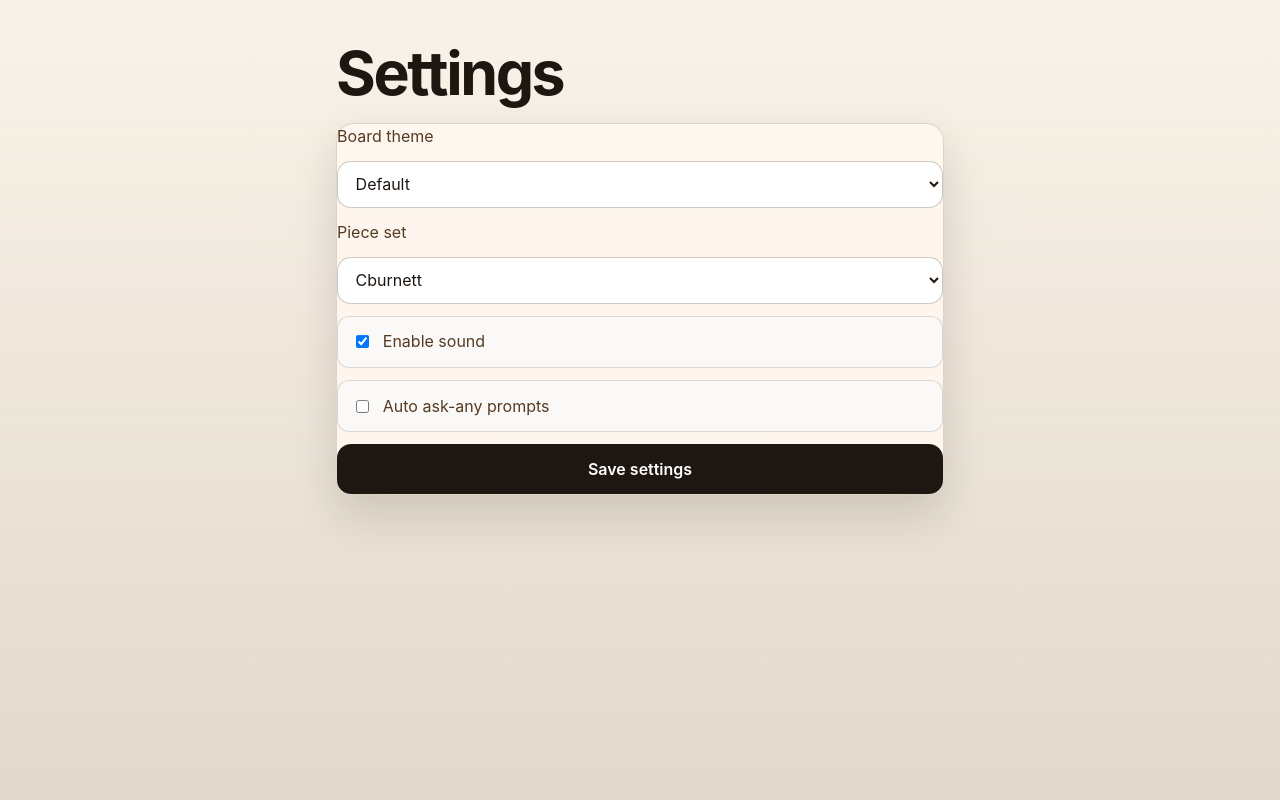
Test: SettingsPage › loads_current_settings_and_saves_changes
Select "Wood" in the dropdown labelled "Board theme" at {"x": 640, "y": 184}, box [337,161,943,208]
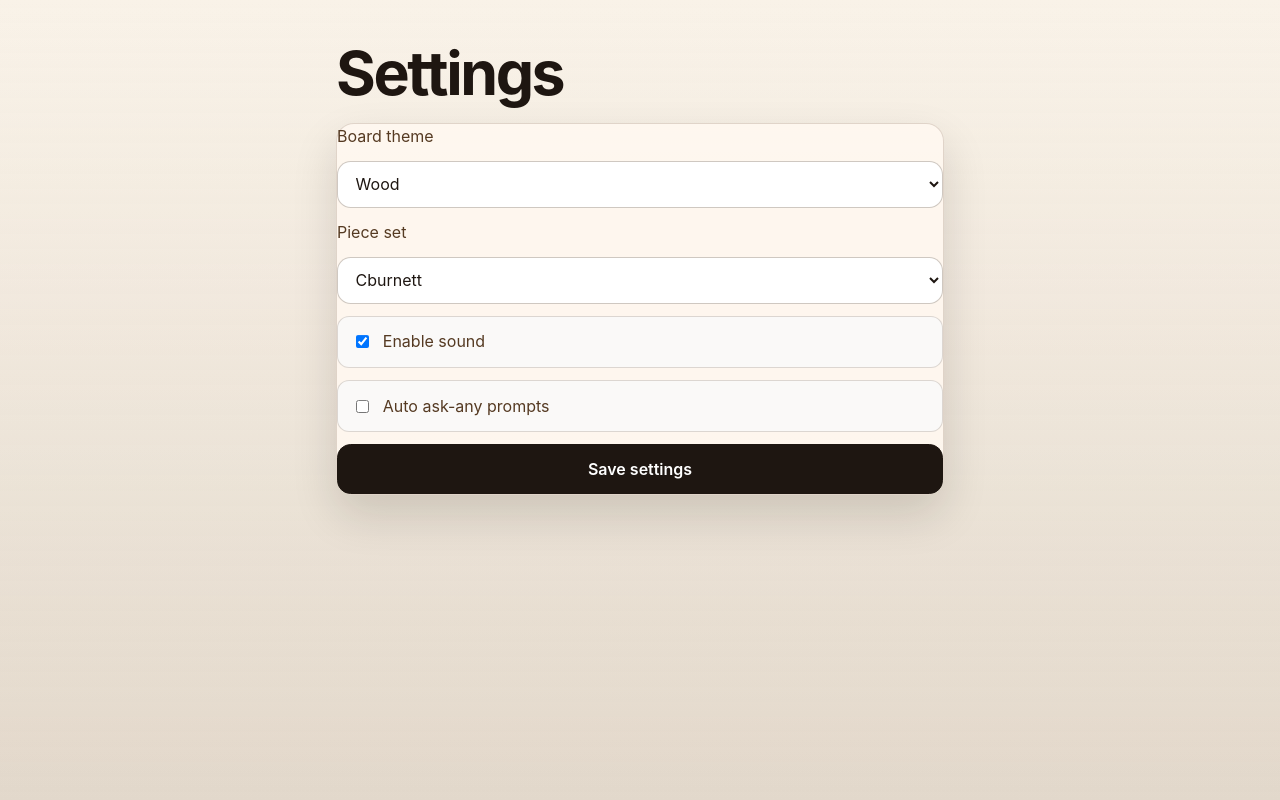
Select "Alpha" in the dropdown labelled "Piece set" at {"x": 640, "y": 280}, box [337,256,943,304]
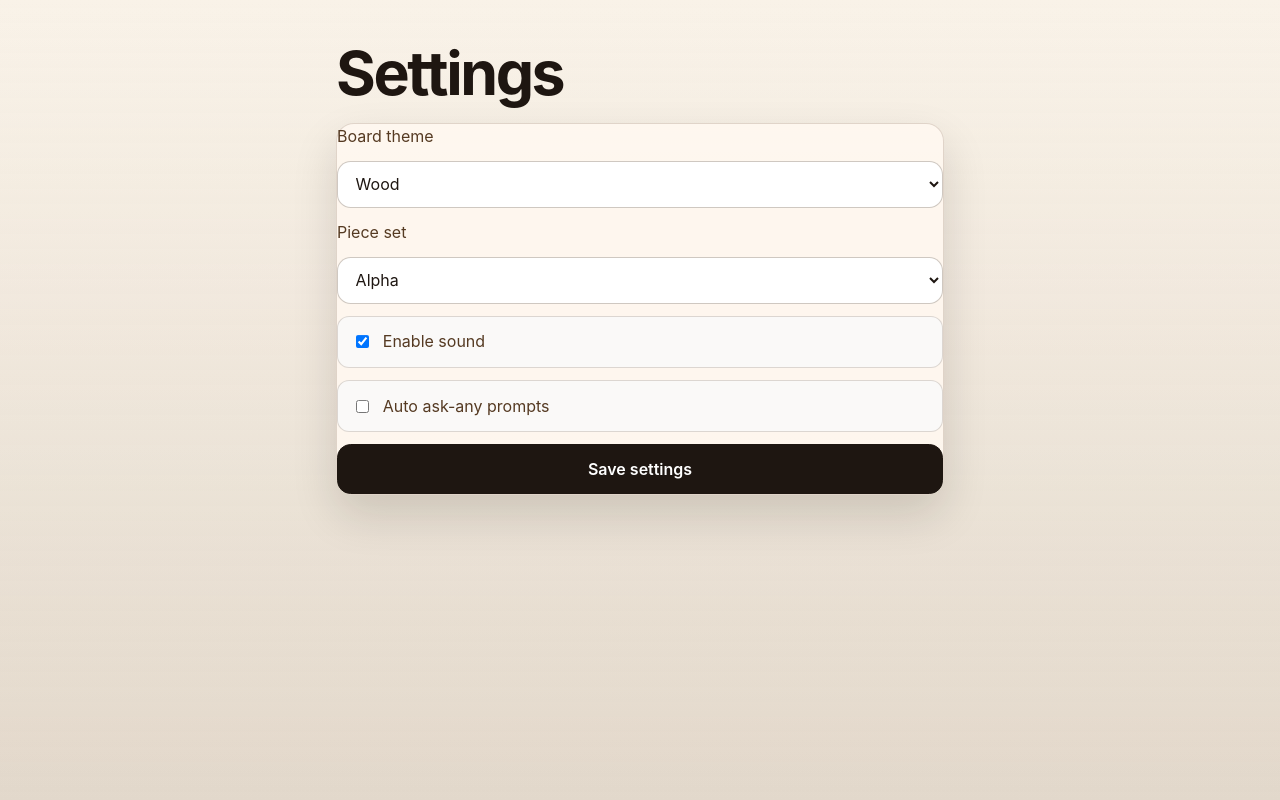
Click the checkbox labelled "Enable sound" at {"x": 363, "y": 342}, box [356,335,369,348]
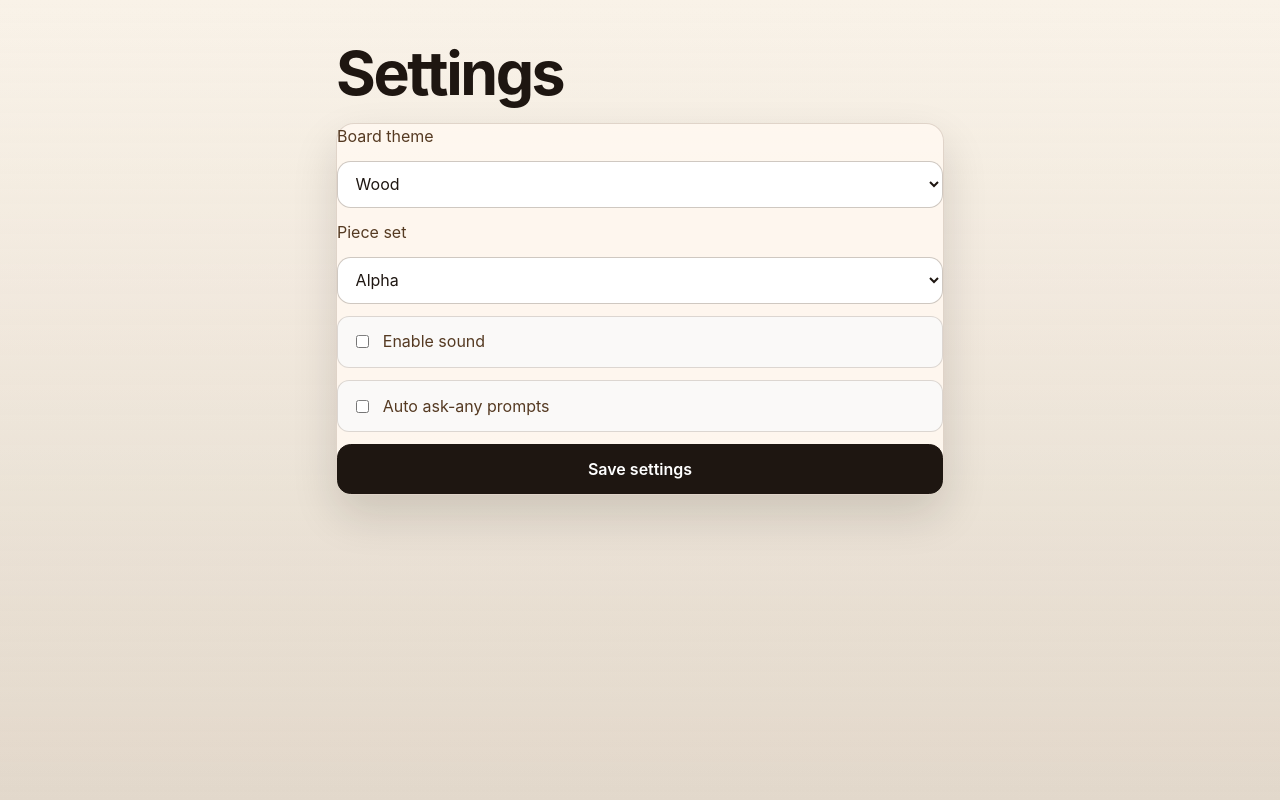
Click the checkbox labelled "Auto ask-any prompts" at {"x": 363, "y": 406}, box [356,400,369,413]
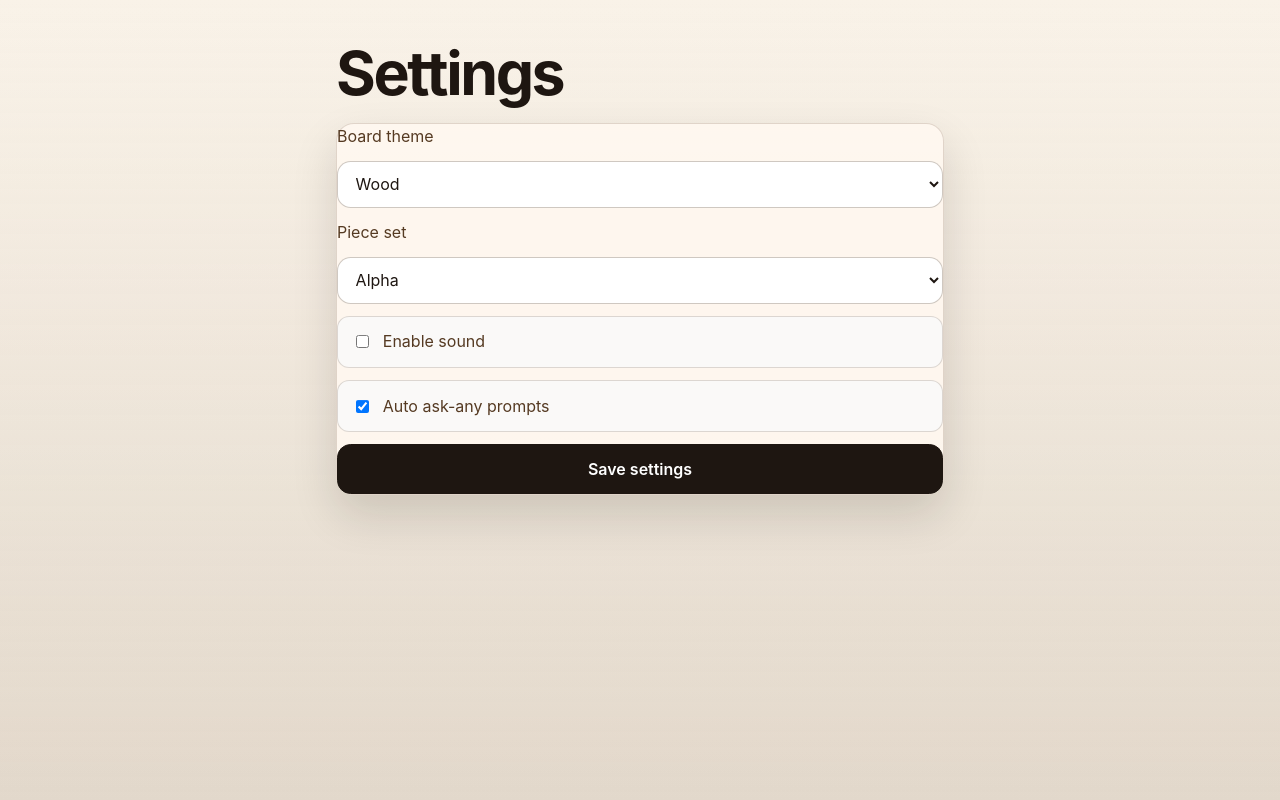
Click the button "Save settings" at {"x": 640, "y": 469}, box [337,444,943,494]
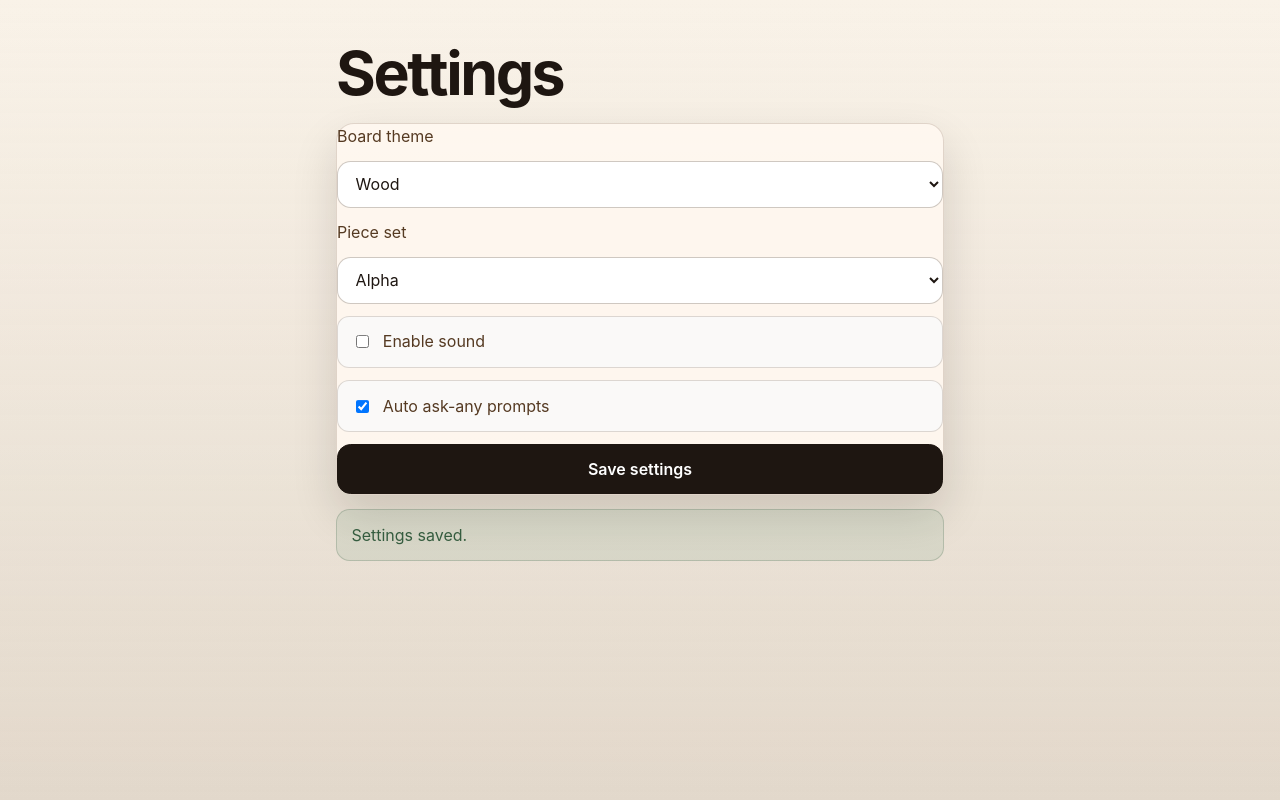
Expected: the message reads "Settings saved.", [351,524,467,544]
